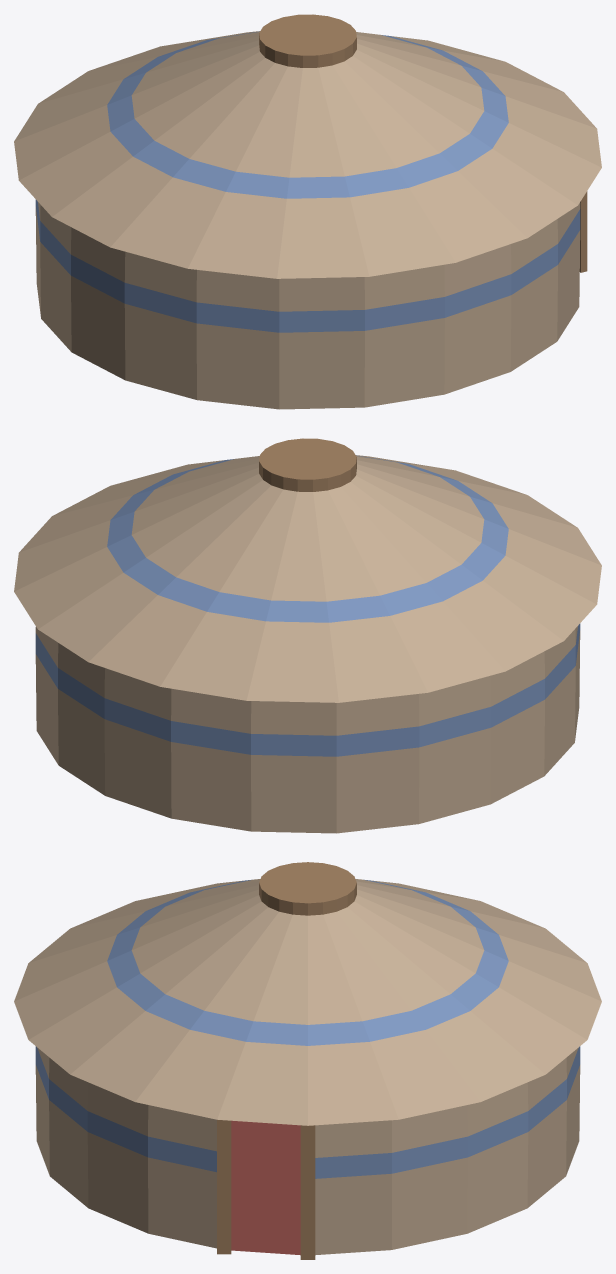
The model's file is yurt_kahve.glb.
The picture shows the model from 3 angles, top to bottom: view 1: azimuth 30°, elevation 25°; view 2: azimuth 150°, elevation 25°; view 3: azimuth 270°, elevation 25°; orthographic projection.
Parts seen in each view (by area): view 1: yurt_kahve; view 2: yurt_kahve; view 3: yurt_kahve.
Boxes of the visible parts, box(x1,y1,x2,y2) form: yurt_kahve: box(14, 14, 601, 409); yurt_kahve: box(14, 438, 601, 833); yurt_kahve: box(14, 862, 601, 1259).
Size of the model in its own units: 6.5 by 3.15 by 6.5.
